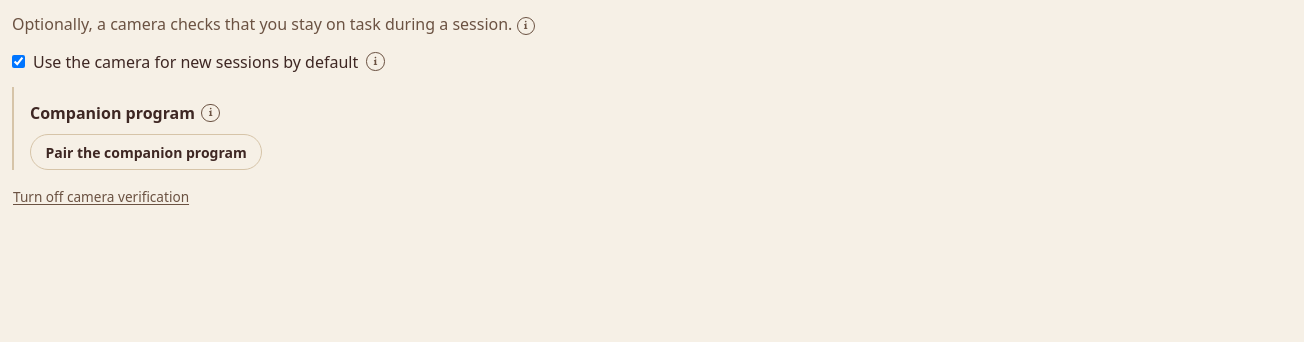
Test case: CameraVerificationCard › turns it off, and asks for consent again afterwards
Click the button "Turn off camera verification": (101, 197) [12,186,190,208]
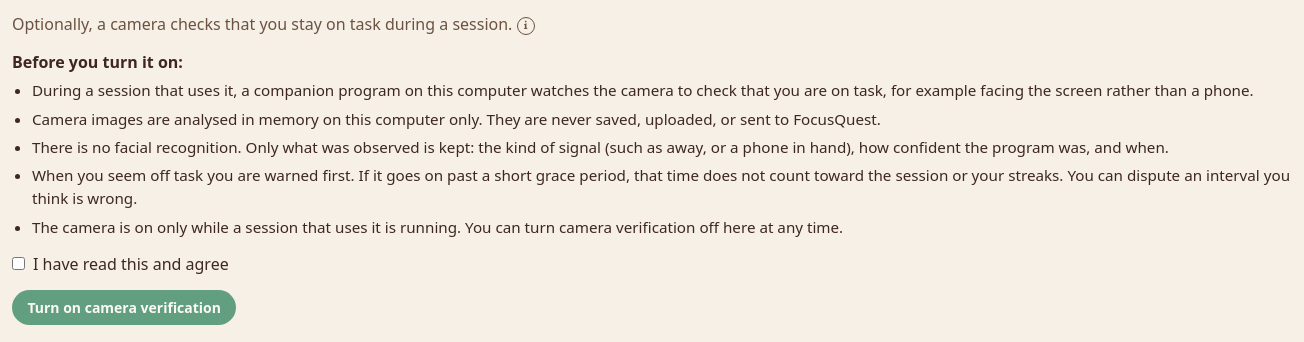
Expected: the text "I have read this and agree" is shown, [12,253,229,275]
Expected: the checkbox labelled "I have read this and agree" is not checked, [12,257,25,270]
